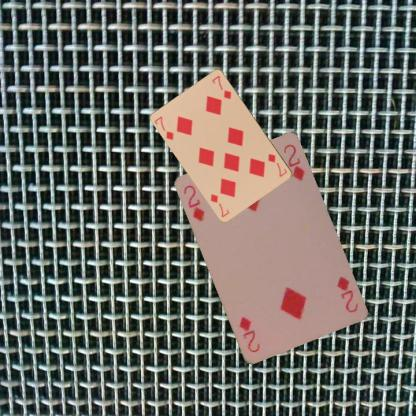2d: (334, 274, 360, 314), (181, 182, 206, 223)
7d: (266, 151, 289, 178), (152, 114, 175, 141)
